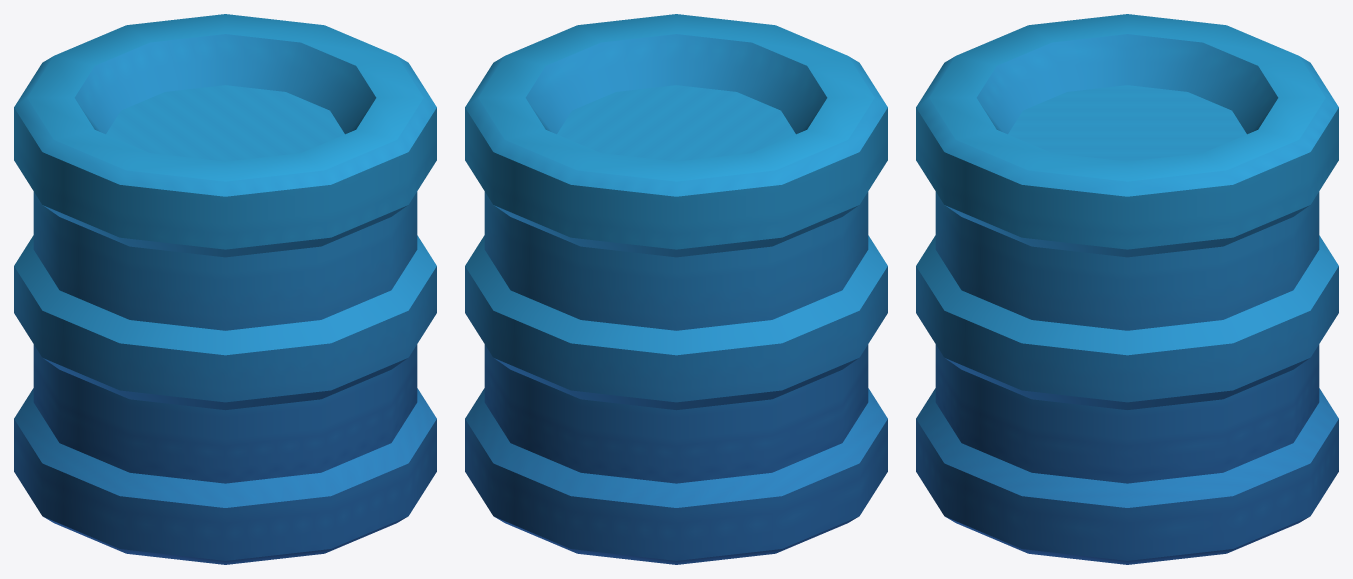
The model's file is barrel-c.glb.
3 renders of one model, left to right at view 1: azimuth 30°, elevation 25°; view 2: azimuth 150°, elevation 25°; view 3: azimuth 270°, elevation 25°, orthographic.
Parts seen in each view (by area): view 1: Barrel_C; view 2: Barrel_C; view 3: Barrel_C.
Part boxes in pixels (x1,y1,x2,y2): Barrel_C: (14, 14, 436, 564); Barrel_C: (465, 14, 887, 564); Barrel_C: (916, 14, 1338, 564).
Size of the model in its own units: 1 by 1 by 1.
Materials: 1 (1 with a texture image).
